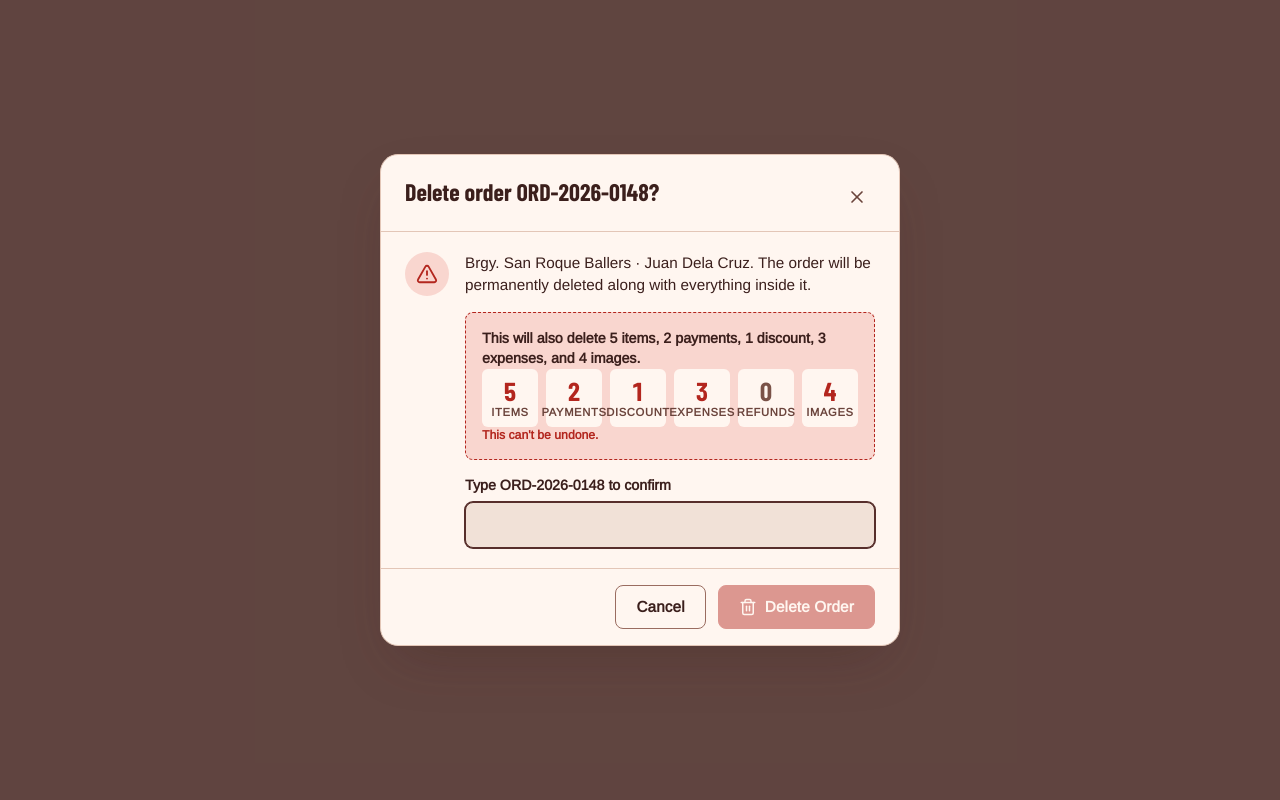
Test: ConfirmDialog (App. D.3, WEB-06) › stays open after a failure with the typed text, the mapped error and the traceId, Delete enabled and focused
Type "ORD-2026-0148" into the field labelled "Type ORD-2026-0148 to confirm" at (670, 525), box [466,503,874,547]
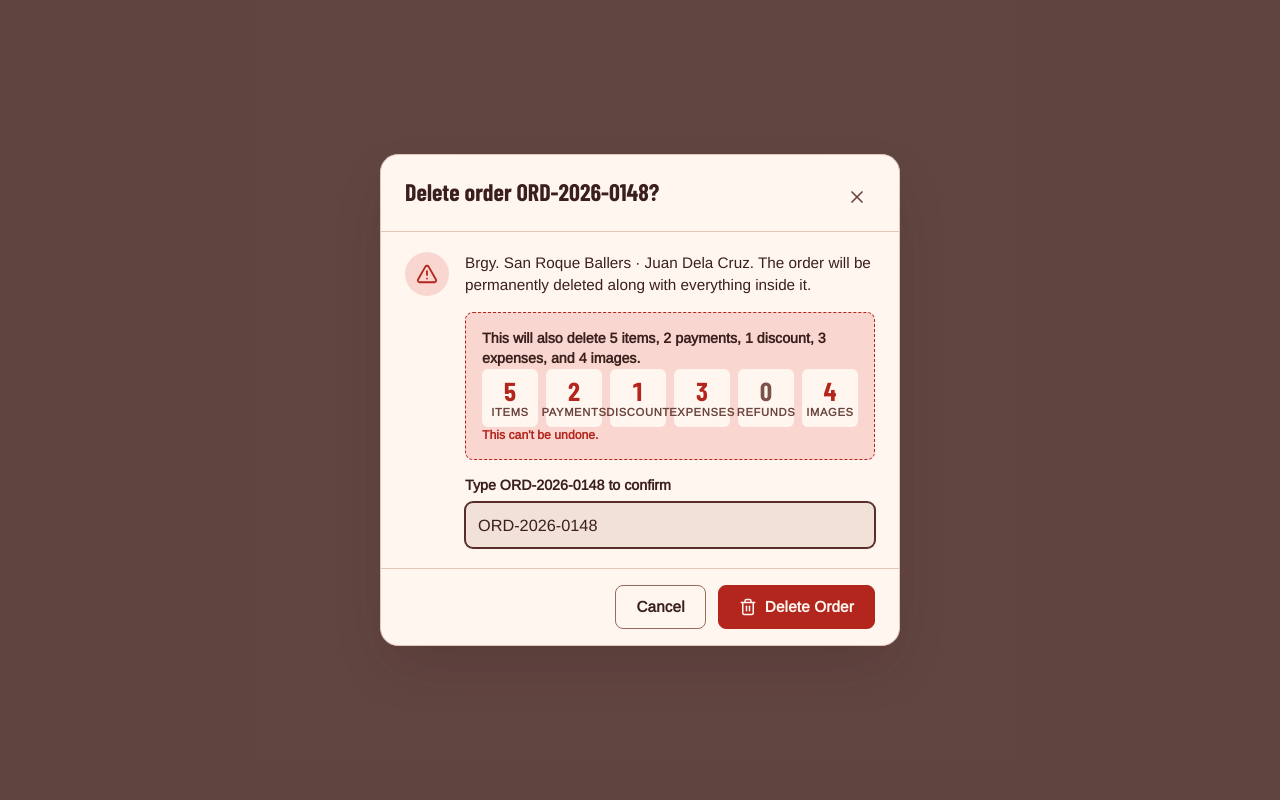
Click the button "Delete Order" at (796, 607), box [718,585,875,629]
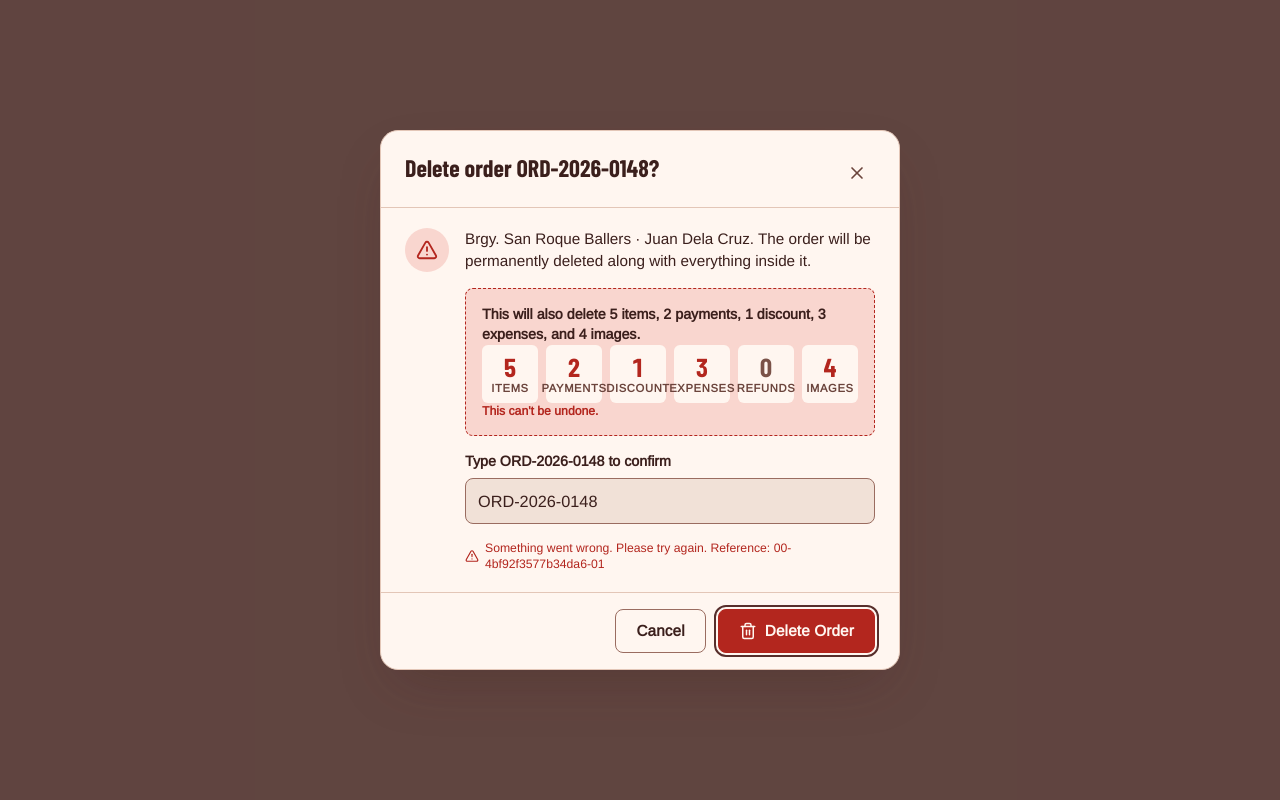
Expected: the dialog is shown, [380,130,900,670]
Expected: the button "Delete Order" is enabled, [718,609,875,653]
Expected: the message "Something went wrong. Please try again. Reference: 00-4bf92f3577b34da6-01" is shown, [465,541,791,571]
